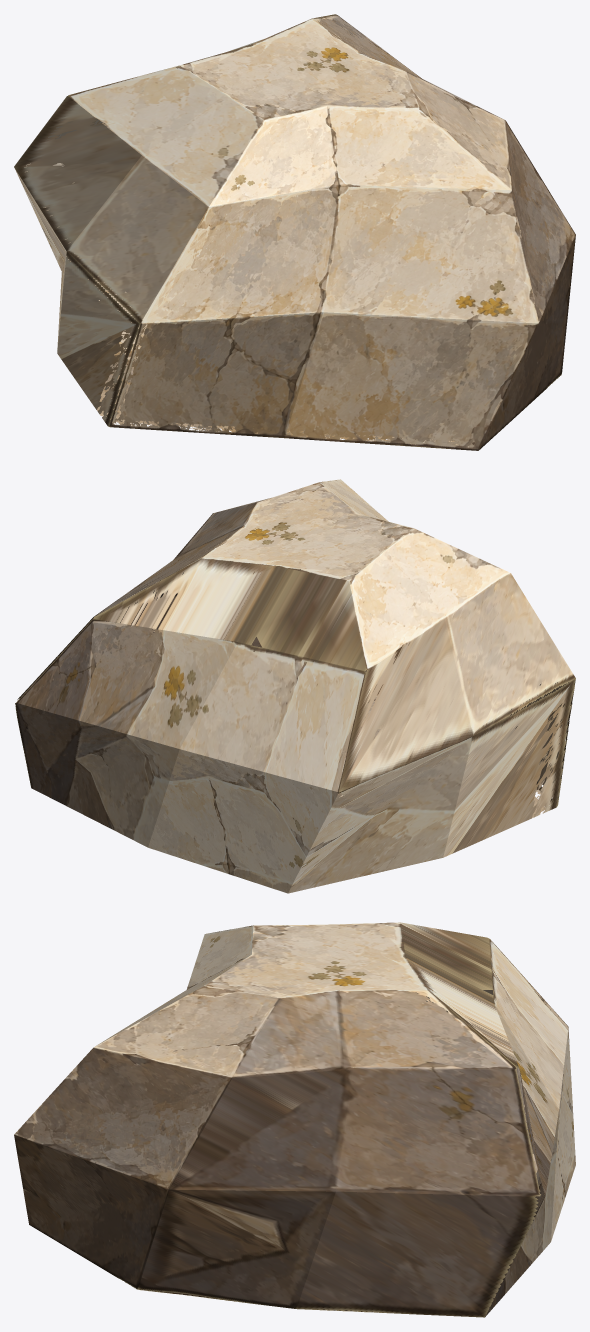
File: rock_c.glb
3 views of the same model, one above another, from view 1: azimuth 30°, elevation 25°; view 2: azimuth 150°, elevation 25°; view 3: azimuth 270°, elevation 25° (orthographic). The views are drawn at different scales.
Visible parts, largest first — view 1: rock_c_game; view 2: rock_c_game; view 3: rock_c_game.
Boxes of the visible parts, x1=… form: rock_c_game: x1=14, y1=14, x2=575, y2=450; rock_c_game: x1=15, y1=479, x2=575, y2=893; rock_c_game: x1=14, y1=922, x2=575, y2=1317.
Size of the model in its own units: 1.42 by 0.8 by 1.6.
Materials: 1 (1 with a texture image).
